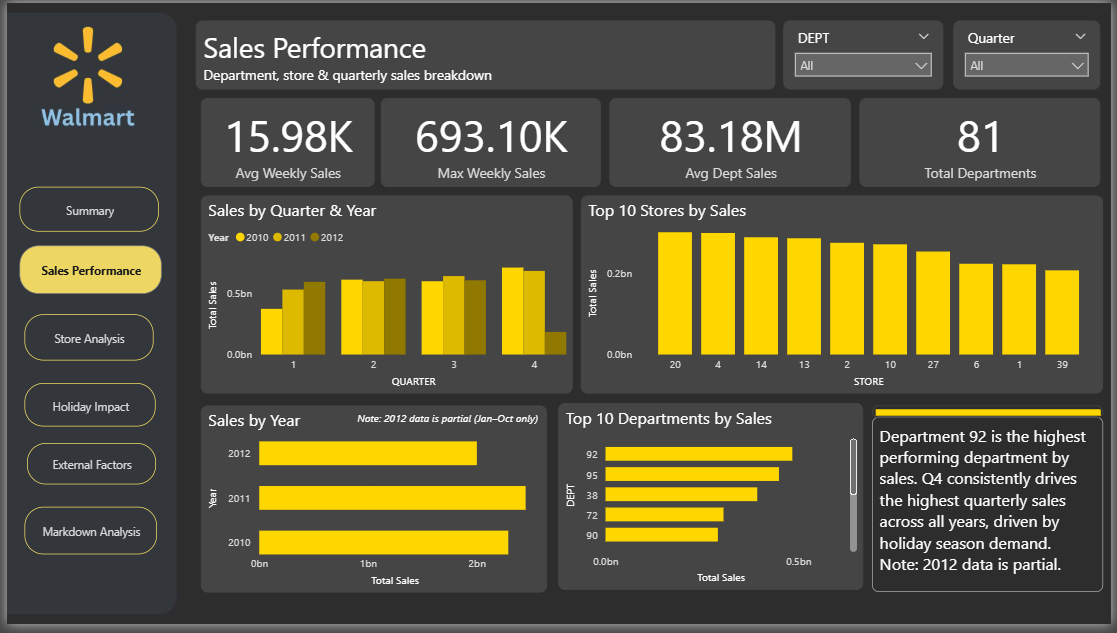

The page's visual inventory and layout, read from the dashboard file:
{"tool":"powerbi","page":{"name":"2.Sales Performance","canvas":[1280,720],"ordinal":1},"visuals":[{"type":"card","fields":{"Values":["WALMART_CLEAN.Avg Weekly Sales"]},"box":[225.4,109.9,201.4,102.8],"z":0},{"type":"card","fields":{"Values":["WALMART_CLEAN.Total Departments"]},"box":[988.7,109.9,278.9,102.8],"z":1000},{"type":"card","fields":{"Values":["WALMART_CLEAN.Avg Dept Sales"]},"box":[698.6,109.9,280.3,102.8],"z":2000},{"type":"card","fields":{"Values":["WALMART_CLEAN.Max Weekly Sales"]},"box":[433.8,109.9,254.9,102.8],"z":3000},{"type":"clusteredColumnChart","title":"Sales by Quarter & Year","fields":{"Category":["WALMART_CLEAN.QUARTER"],"Y":["WALMART_CLEAN.Total Sales"],"Series":["WALMART_CLEAN.SALE_DATE.Variation.Date Hierarchy.Year"]},"box":[225.4,222.5,431,229.6],"z":4000},{"type":"slicer","fields":{"Values":["WALMART_CLEAN.SALE_DATE.Variation.Date Hierarchy.Quarter"]},"box":[1097.2,19.7,170.4,80.3],"z":5000},{"type":"slicer","fields":{"Values":["WALMART_CLEAN.DEPT"]},"box":[900,19.7,185.9,80.3],"z":6000},{"type":"clusteredColumnChart","title":"Top 10 Stores by Sales","fields":{"Category":["WALMART_CLEAN.STORE"],"Y":["WALMART_CLEAN.Total Sales"]},"box":[664.8,222.5,605.6,229.6],"z":7000},{"type":"clusteredBarChart","title":"Sales by Year","fields":{"Category":["WALMART_CLEAN.SALE_DATE.Variation.Date Hierarchy.Year"],"Y":["WALMART_CLEAN.Total Sales"]},"box":[225.4,466.2,401.4,216.9],"z":8000},{"type":"textbox","box":[401.4,466.2,254.9,26.8],"z":9000},{"type":"clusteredBarChart","title":"Top 10 Departments by Sales","fields":{"Category":["WALMART_CLEAN.DEPT"],"Y":["WALMART_CLEAN.Total Sales"]},"box":[639.4,463.4,353.5,216.9],"z":10000},{"type":"textbox","box":[218.3,19.7,671.8,80.3],"z":11000},{"type":"actionButton","box":[14.1,212.7,162,52.1],"z":12000},{"type":"actionButton","box":[19.7,360.6,149.3,53.5],"z":13000},{"type":"actionButton","box":[19.7,440.8,152.1,50.7],"z":14000},{"type":"actionButton","box":[22.5,509.9,149.3,47.9],"z":15000},{"type":"actionButton","box":[19.7,584.5,153.5,54.9],"z":16000},{"type":"actionButton","title":"Overview","box":[14.1,281.7,164.8,56.3],"z":17000},{"type":"textbox","box":[1002.8,480.3,267.6,202.8],"z":20000},{"type":"shape","box":[1002.8,466.2,267.6,14.1],"z":21000}]}

Visuals, with their boxes in screenshot pixels (x1, y1, x2, y2), scaled from the page's 1280x720 canvas onto the 1117x633 screenshot:
card - WALMART_CLEAN.Avg Weekly Sales: crop(197, 97, 372, 187)
card - WALMART_CLEAN.Total Departments: crop(863, 97, 1106, 187)
card - WALMART_CLEAN.Avg Dept Sales: crop(610, 97, 854, 187)
card - WALMART_CLEAN.Max Weekly Sales: crop(379, 97, 601, 187)
"Sales by Quarter & Year" clusteredColumnChart: crop(197, 196, 573, 397)
slicer - WALMART_CLEAN.SALE_DATE.Variation.Date Hierarchy.Quarter: crop(957, 17, 1106, 88)
slicer - WALMART_CLEAN.DEPT: crop(785, 17, 948, 88)
"Top 10 Stores by Sales" clusteredColumnChart: crop(580, 196, 1109, 397)
"Sales by Year" clusteredBarChart: crop(197, 410, 547, 601)
textbox: crop(350, 410, 573, 433)
"Top 10 Departments by Sales" clusteredBarChart: crop(558, 407, 866, 598)
textbox: crop(191, 17, 777, 88)
actionButton: crop(12, 187, 154, 233)
actionButton: crop(17, 317, 147, 364)
actionButton: crop(17, 388, 150, 432)
actionButton: crop(20, 448, 150, 490)
actionButton: crop(17, 514, 151, 562)
"Overview" actionButton: crop(12, 248, 156, 297)
textbox: crop(875, 422, 1109, 601)
shape: crop(875, 410, 1109, 422)
